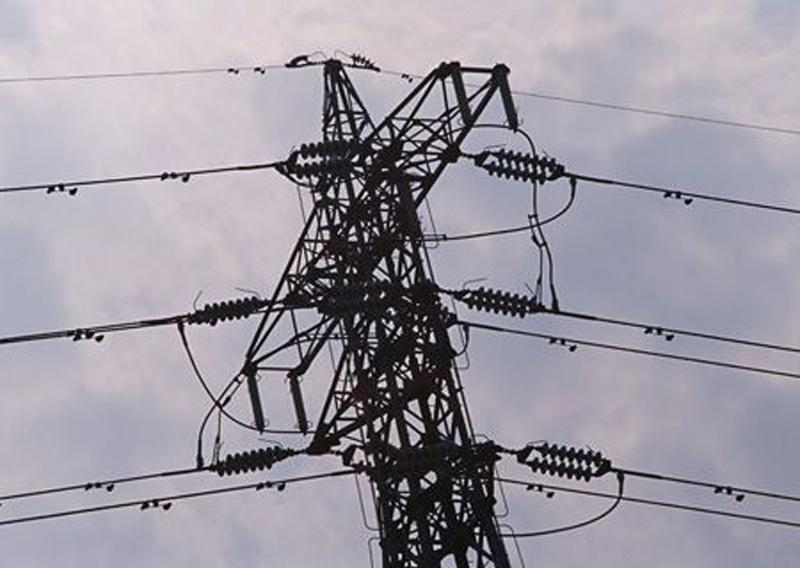power_tower: (179, 28, 657, 560)
